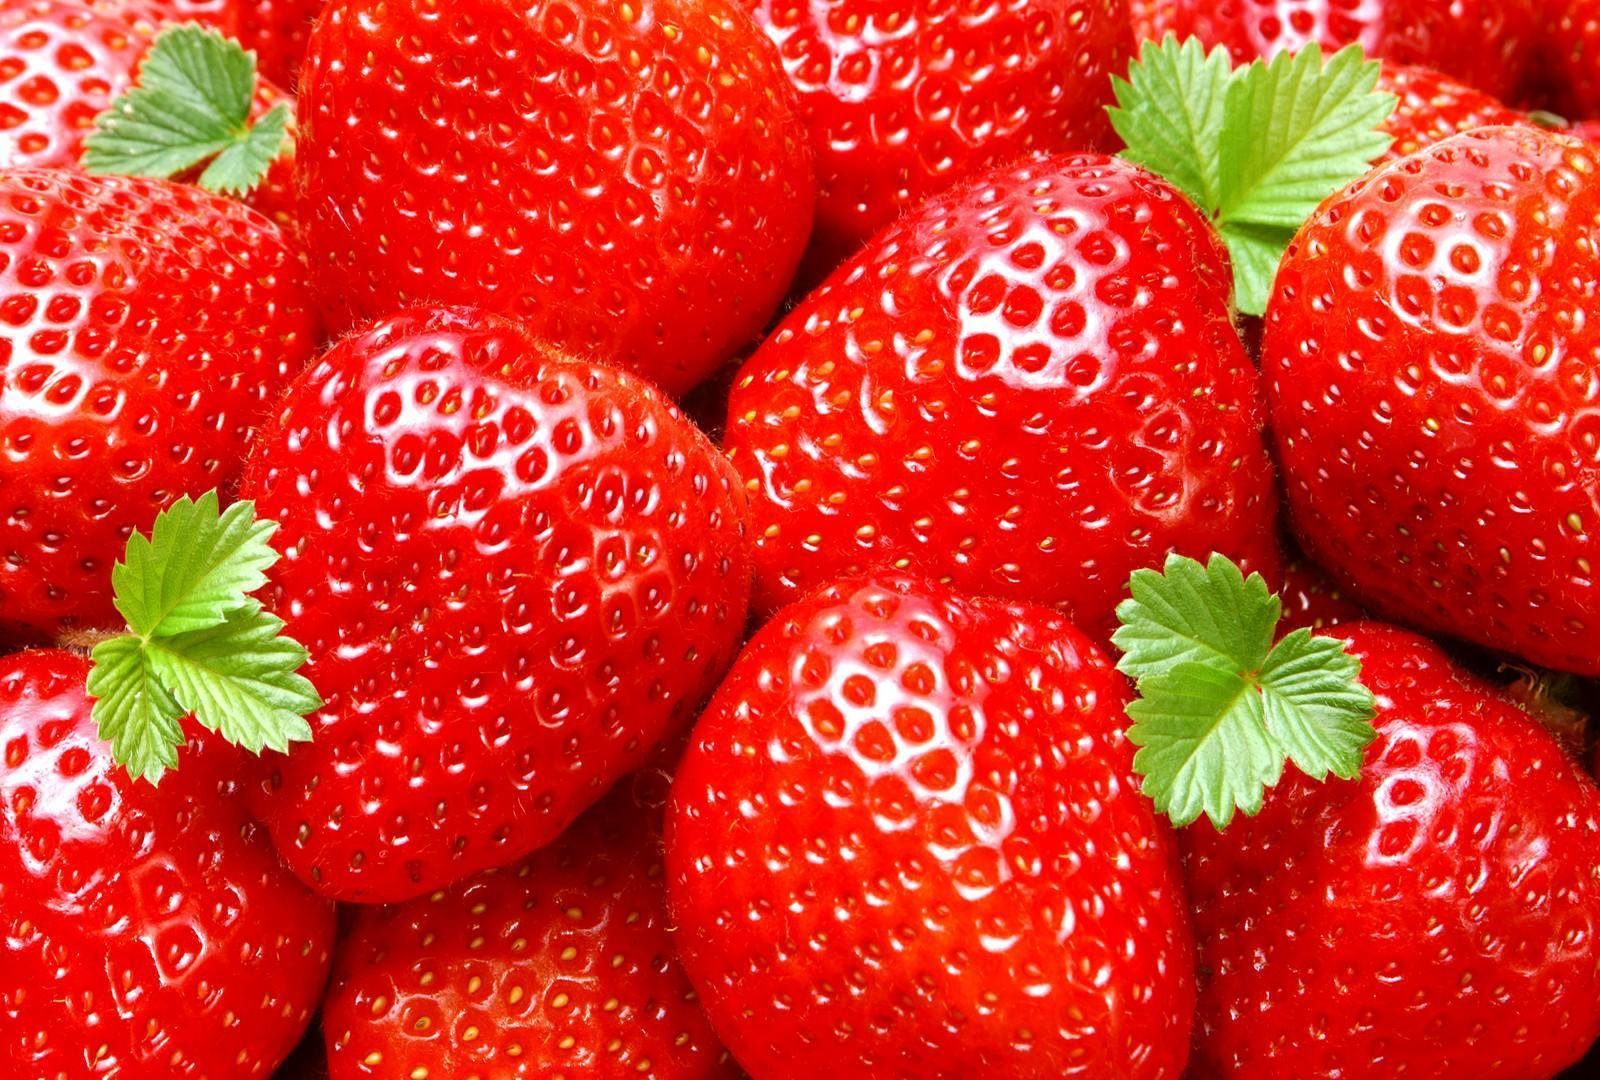strawberry: (200, 311, 739, 881), (646, 567, 1214, 1080), (710, 117, 1261, 609), (1257, 94, 1600, 689), (280, 0, 813, 368), (1193, 604, 1600, 1080)
